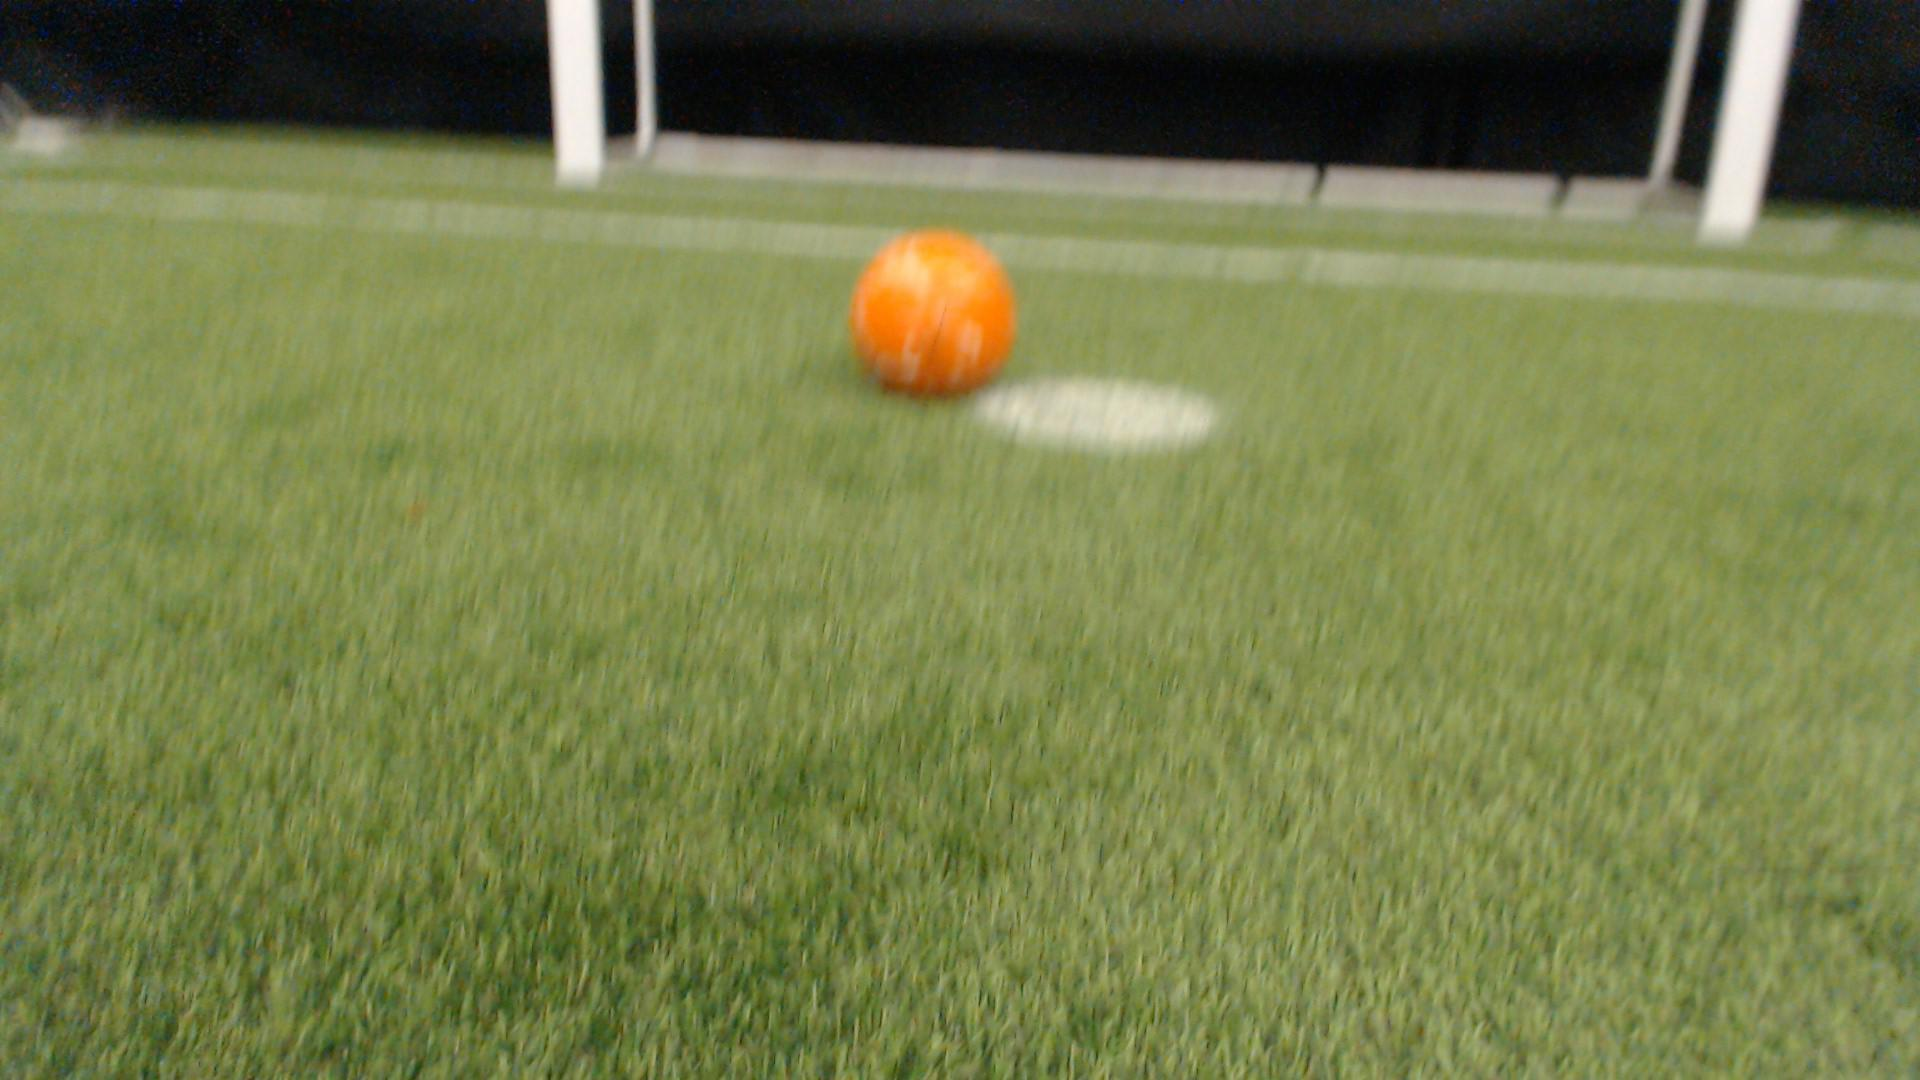bola: (835, 219, 1030, 413)
